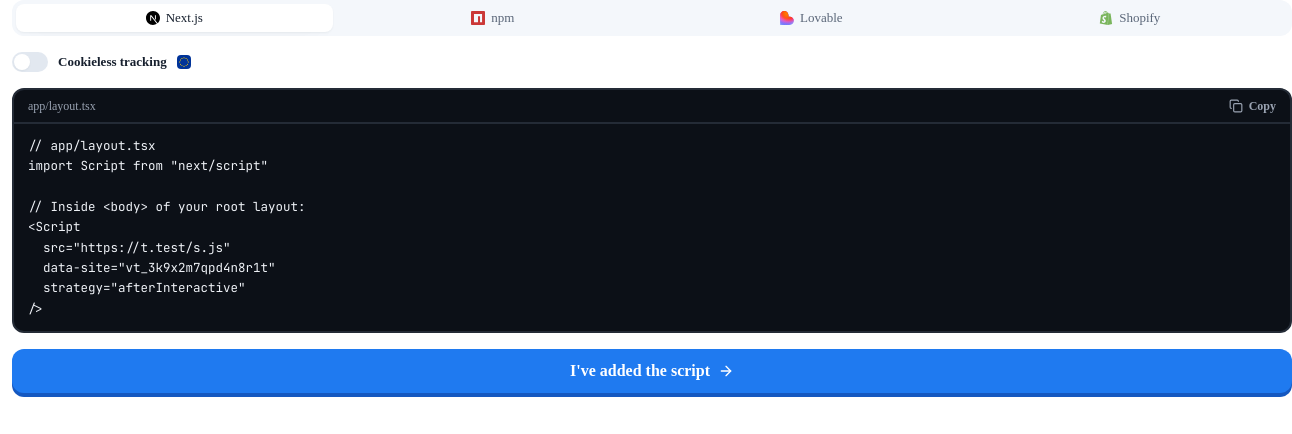
InstallPanel › switches every snippet to cookieless with the switch
This screenshot has width=1292, height=434.
What coordinates should you click on to do the following:
click the switch named "Cookieless tracking"
I would click on:
 (30, 62)
Its box is [12,52,48,72].
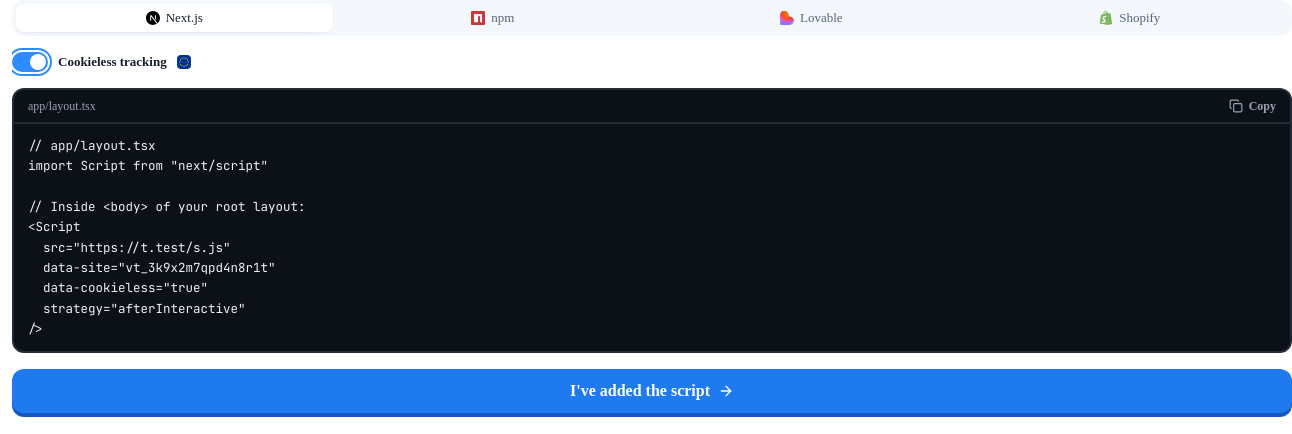
Expected: the text "data-cookieless=\"true\"" is shown, [28,137,306,337]
